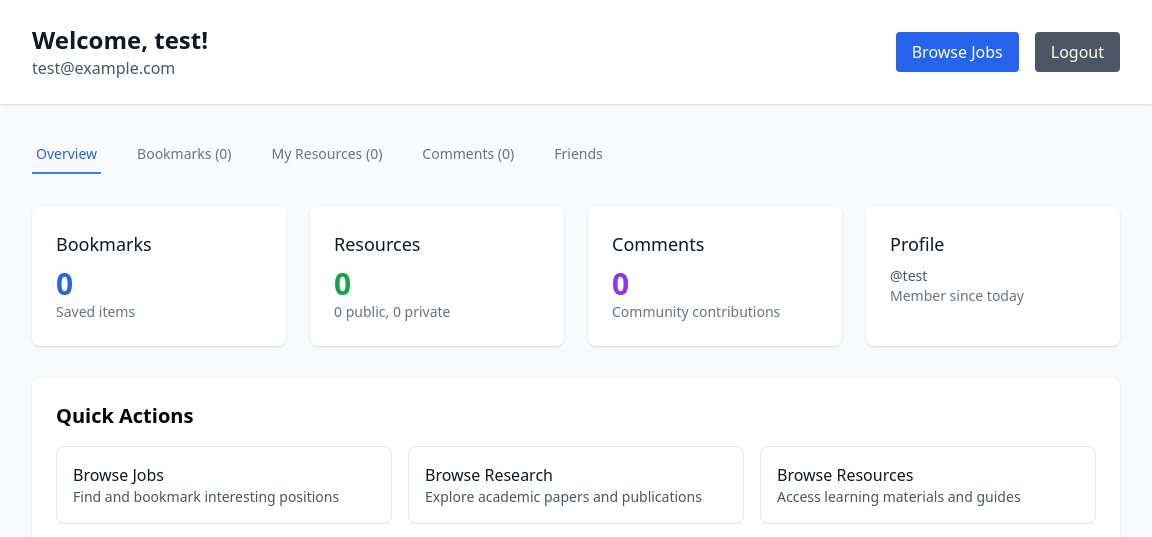
Test: Dashboard Page › switches between tabs correctly
Expected: the button "Overview" is shown, [32, 136, 101, 174]
// Click on Bookmarks tab
Step 1. Click the button "Bookmarks (0)" → (184, 155), box [133, 136, 236, 174]
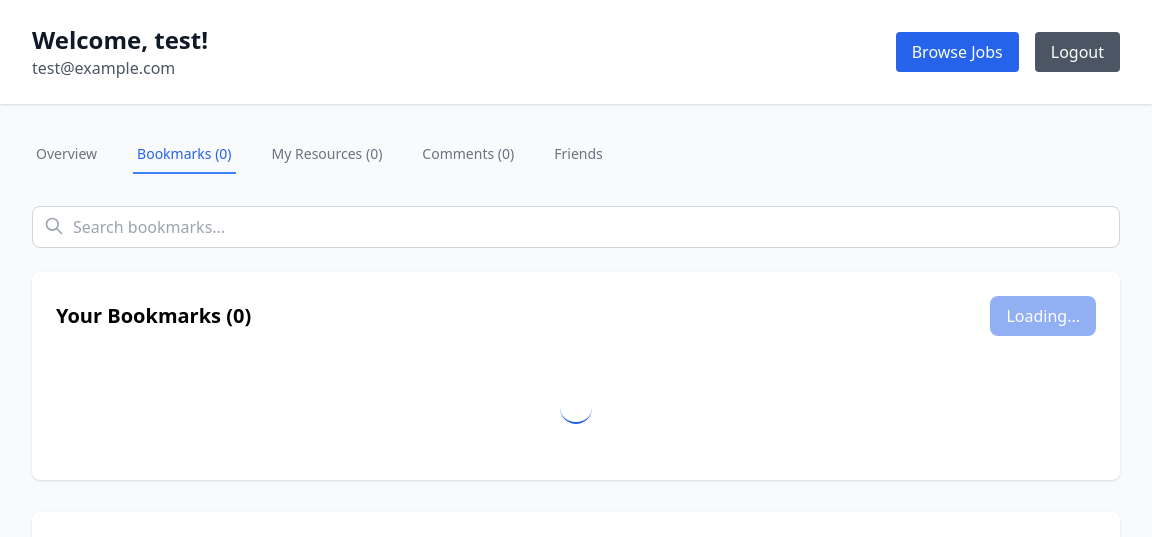
Now the heading "Your Bookmarks (0)" is shown, box [56, 302, 251, 330]
// Click on Resources tab
Step 2. Click the button "My Resources (0)" → (327, 155), box [268, 136, 386, 174]
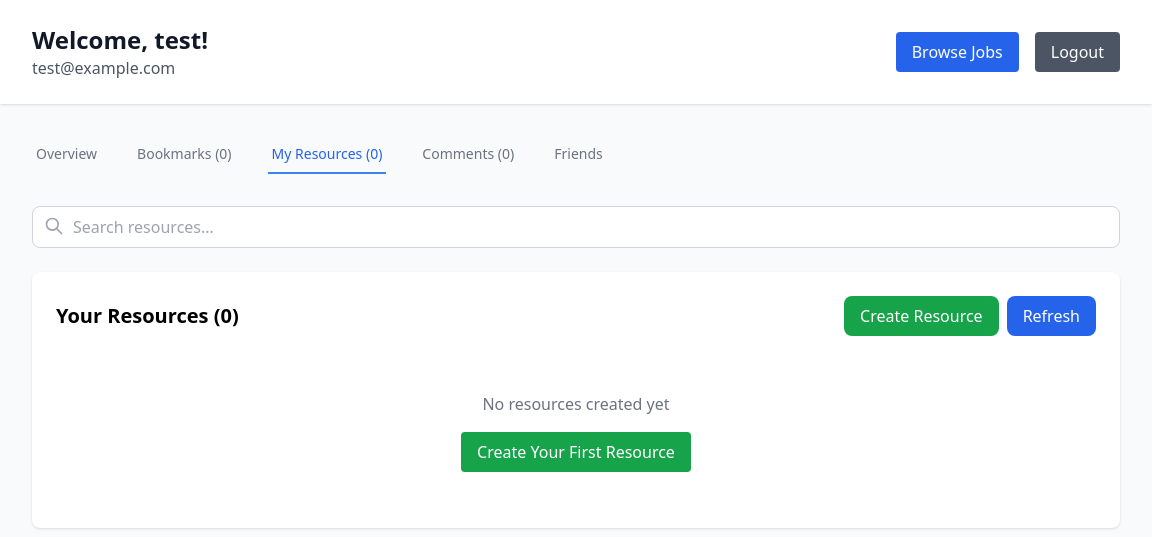
Now the heading "Your Resources (0)" is shown, box [56, 302, 239, 330]
